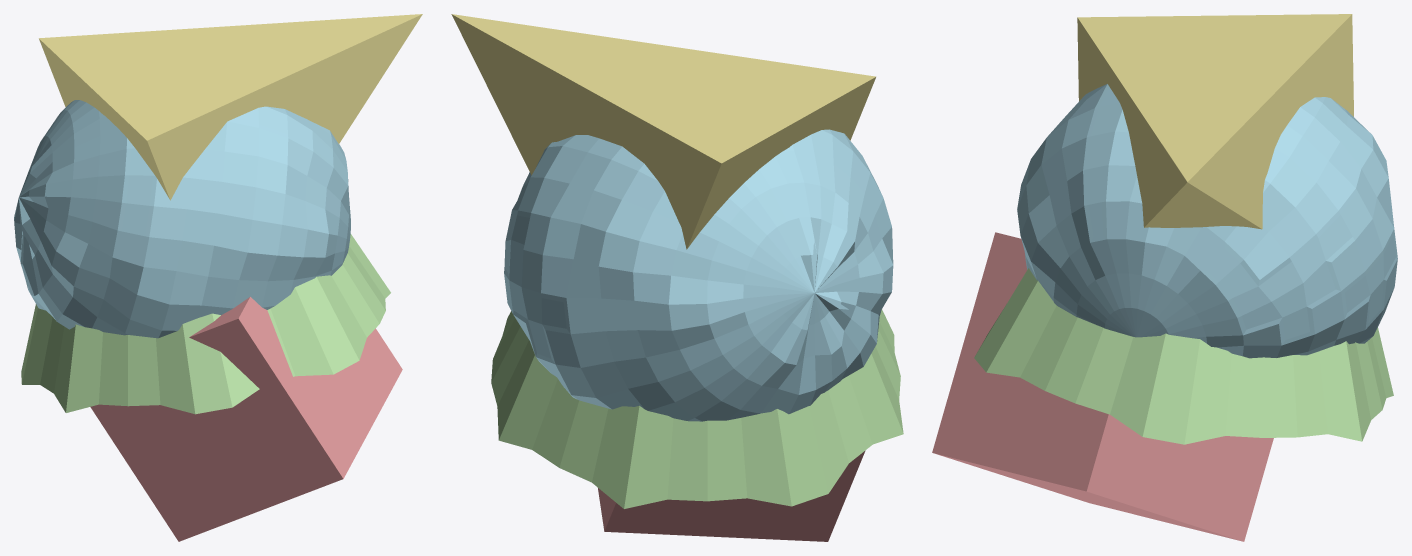
File: piernaizquierda-amebaPlayer.glb
3 renders of one model, left to right at view 1: azimuth 30°, elevation 25°; view 2: azimuth 150°, elevation 25°; view 3: azimuth 270°, elevation 25°, orthographic. The views are drawn at different scales.
Parts seen in each view (by area): view 1: Sphere, Cone, Cube, Cylinder; view 2: Sphere, Cone, Cylinder, Cube; view 3: Sphere, Cone, Cylinder, Cube.
Boxes of the visible parts, box(x1,y1,x2,y2) form: Sphere: box(14, 100, 350, 338); Cone: box(39, 14, 422, 200); Cube: box(90, 296, 402, 541); Cylinder: box(21, 234, 390, 414); Sphere: box(504, 129, 893, 421); Cone: box(451, 14, 875, 249); Cylinder: box(491, 309, 903, 508); Cube: box(598, 450, 865, 541); Sphere: box(1017, 84, 1397, 358); Cone: box(1077, 14, 1353, 229); Cylinder: box(974, 268, 1393, 444); Cube: box(932, 232, 1273, 541).
Bounding box in the file's own units: 1.48 × 1.6 × 1.41.
